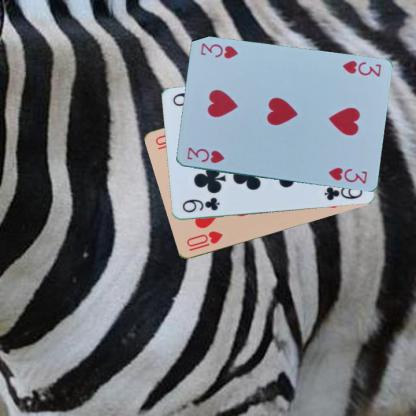10h: (184, 228, 224, 249)
3h: (184, 144, 225, 165), (339, 58, 382, 78)
9c: (179, 195, 221, 214)
